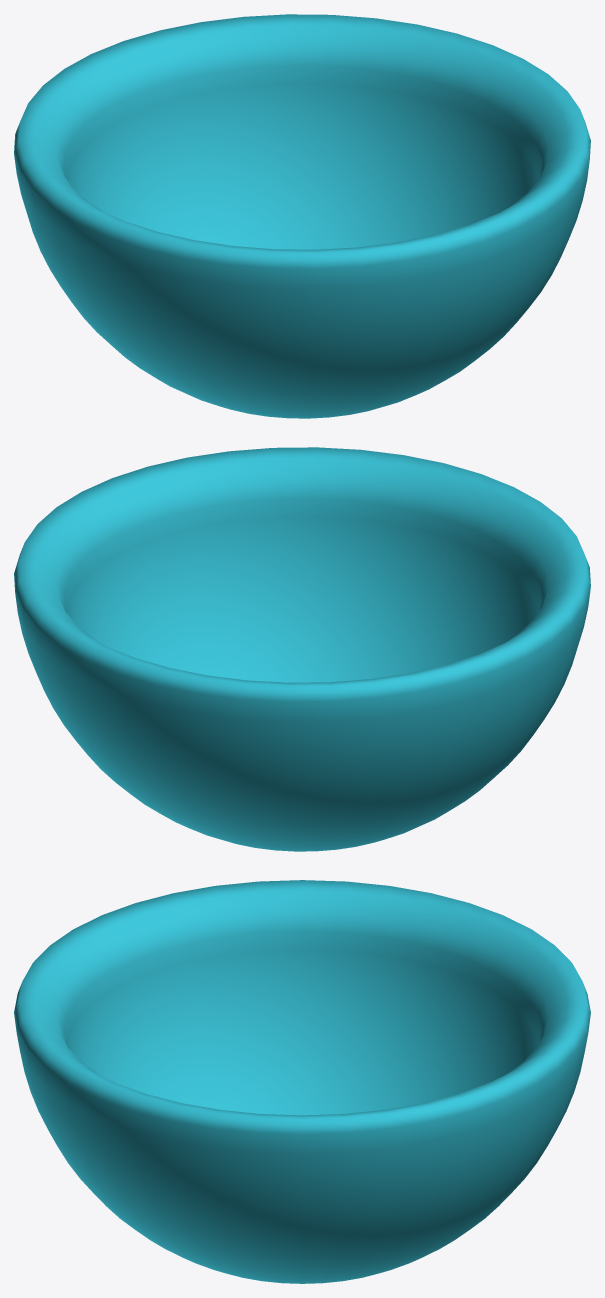
Rendered from ZDJELA.fbx.
The picture shows the model from 3 angles, top to bottom: view 1: azimuth 30°, elevation 25°; view 2: azimuth 150°, elevation 25°; view 3: azimuth 270°, elevation 25°; orthographic projection.
Parts seen in each view (by area): view 1: bowl:pSphere1; view 2: bowl:pSphere1; view 3: bowl:pSphere1.
Part boxes in pixels (box(x1,y1,x2,y2)): bowl:pSphere1: box(14, 14, 590, 418); bowl:pSphere1: box(14, 447, 590, 851); bowl:pSphere1: box(14, 880, 590, 1283).
Size of the model in its own units: 45.7 by 22.08 by 45.7.
